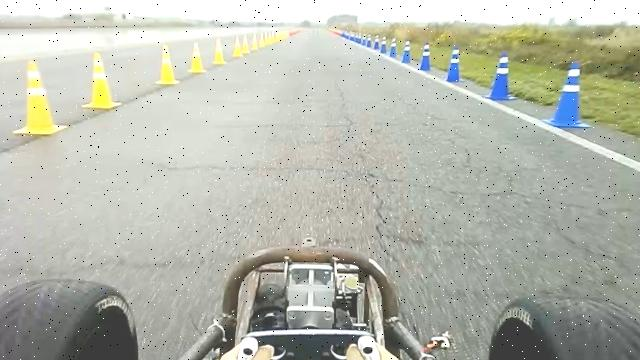blue cone: (543, 61, 592, 128), (484, 51, 518, 100), (445, 46, 464, 83), (419, 41, 432, 71), (401, 40, 412, 63), (389, 37, 398, 58)
yellow cone: (13, 60, 67, 135), (82, 52, 122, 109), (156, 44, 179, 84), (188, 41, 206, 74), (212, 38, 227, 64), (233, 37, 243, 57)
